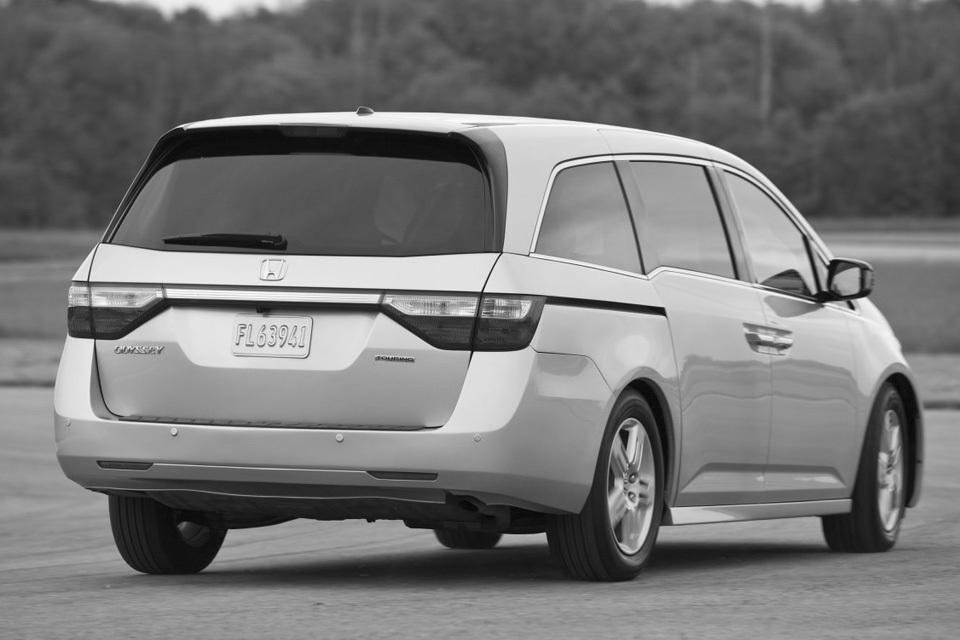car: (43, 102, 935, 588)
